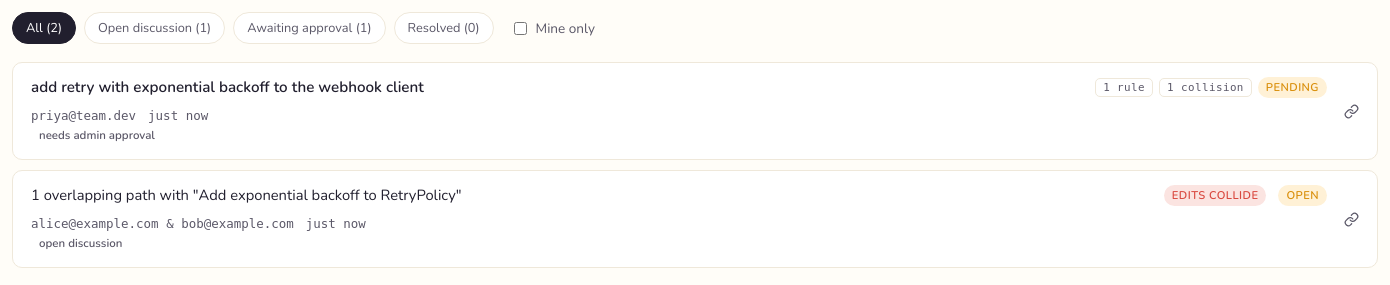
Test: ConflictsView › 'Mine only' keeps items where the signed-in developer is a party, and updates the stage counts to match
Expected: the button "All (2)" is shown, [12,12,76,44]
Expected: the text "add retry with exponential backoff to the webhook client" is shown, [31,77,424,97]
Click the checkbox labelled "Mine only" at (520, 28), box [514,22,526,34]
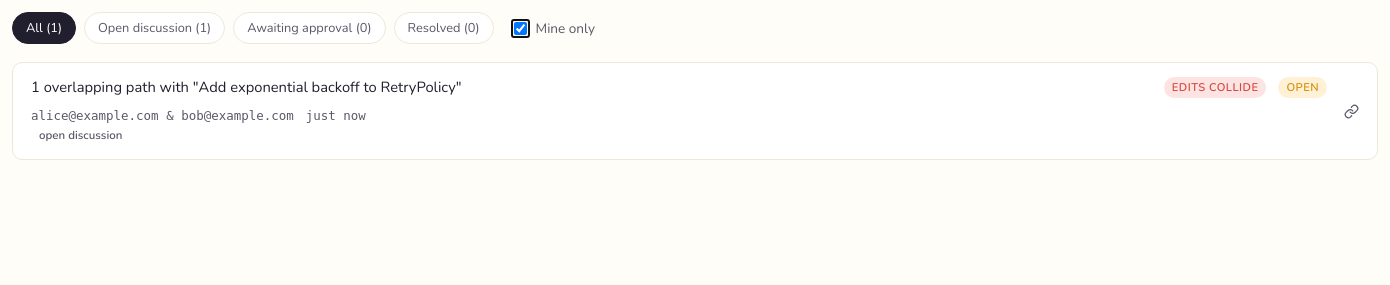
Expected: the button "Open discussion (1)" is shown, [84,12,225,44]
Expected: the button "All (1)" is shown, [12,12,76,44]
Expected: the button "add retry with exponential backoff to the webhook client" is gone
